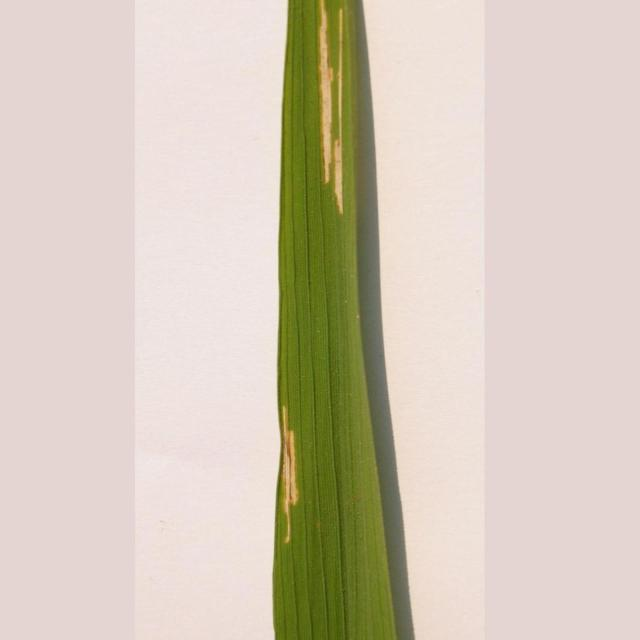Bacterial leaf blight: (314, 1, 356, 221), (280, 393, 314, 559)
